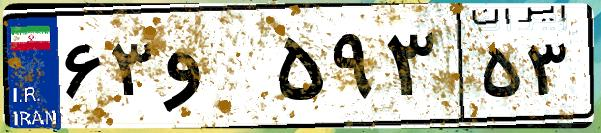3: (385, 28, 445, 110), (525, 38, 570, 115), (110, 28, 158, 98)
5: (270, 28, 330, 110), (475, 38, 525, 113)
6: (57, 26, 110, 100)
9: (330, 28, 385, 110)
و: (158, 20, 270, 120)
